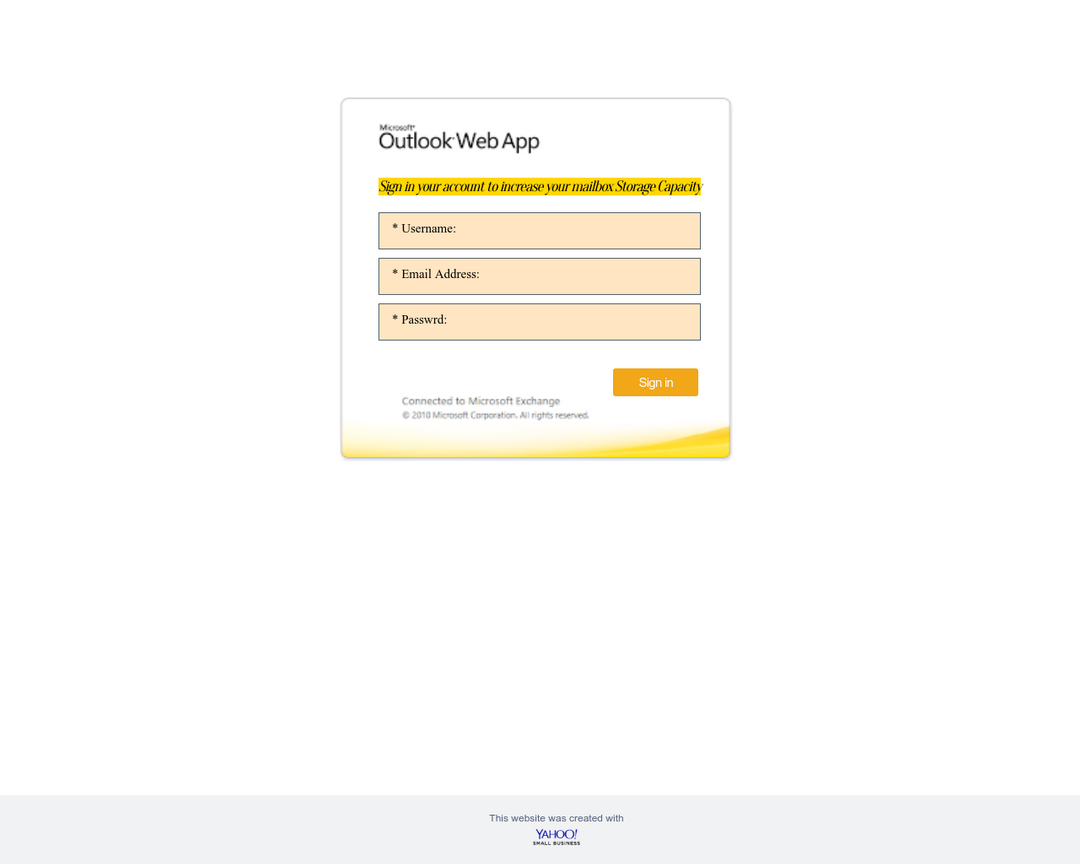Microsoft: (52, 9, 156, 33)
